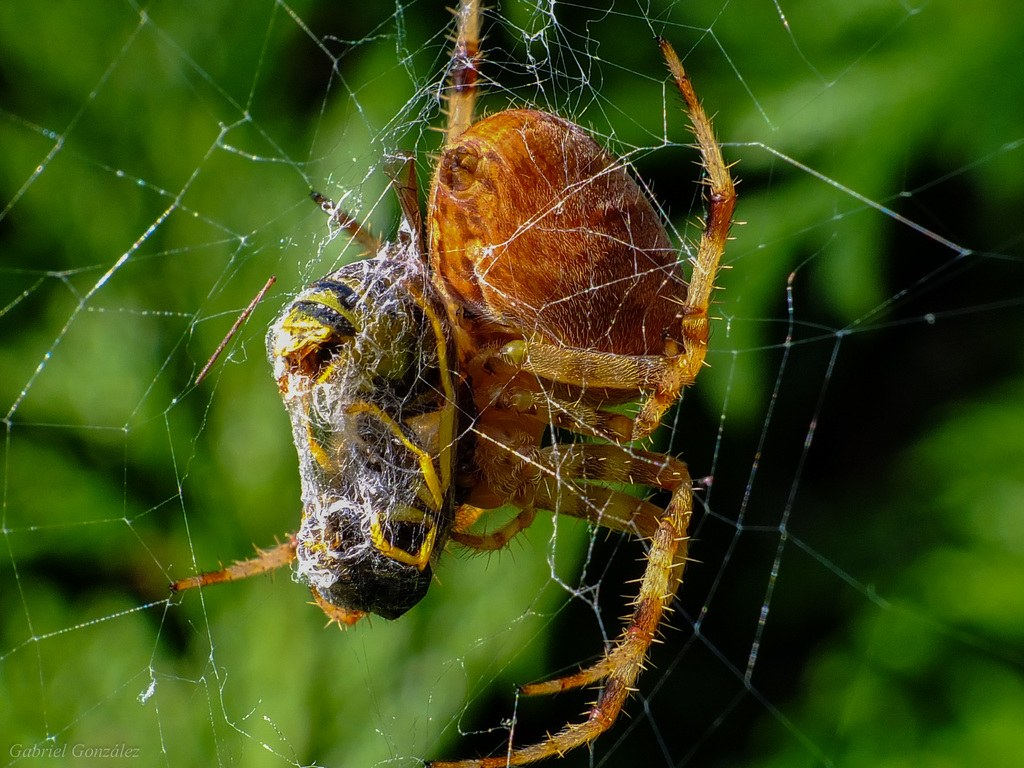insect: (174, 0, 749, 767), (310, 0, 746, 767), (163, 148, 474, 634)
